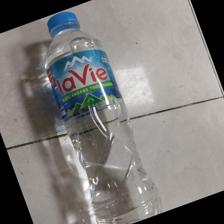Lavie: (39, 10, 166, 223)
